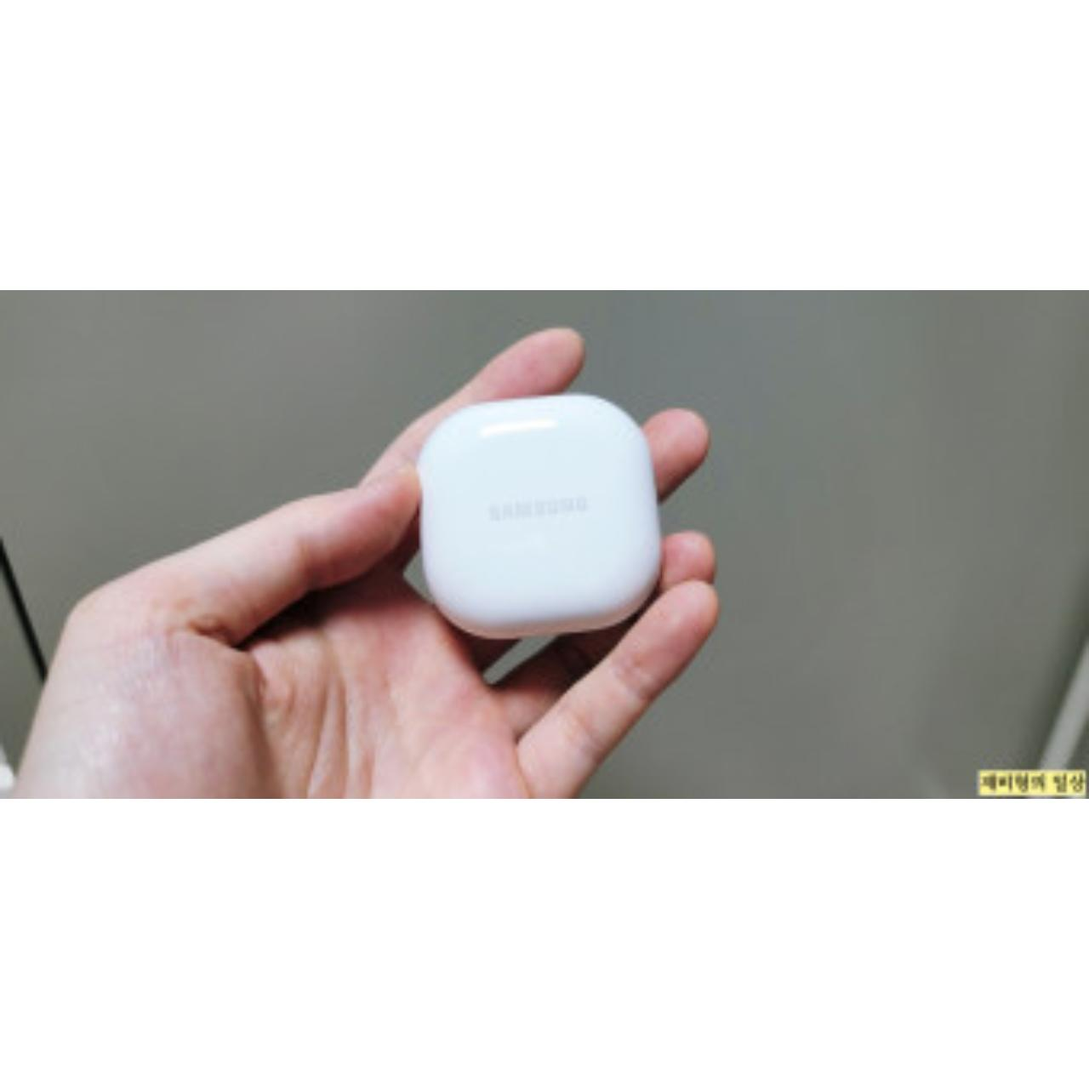Buds: (414, 393, 667, 643)
